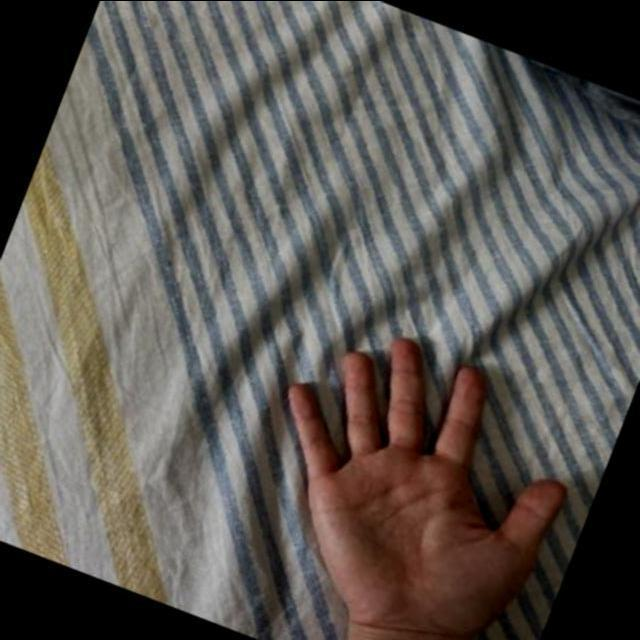hand: (204, 290, 628, 640)
